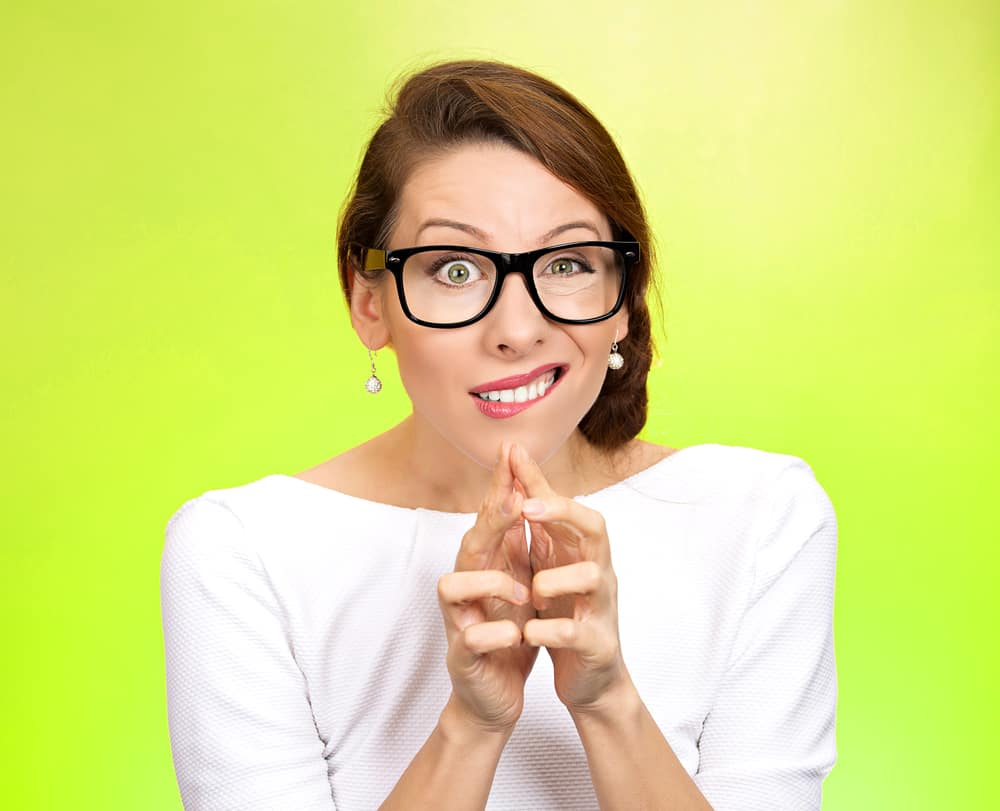human: (146, 46, 889, 811)
